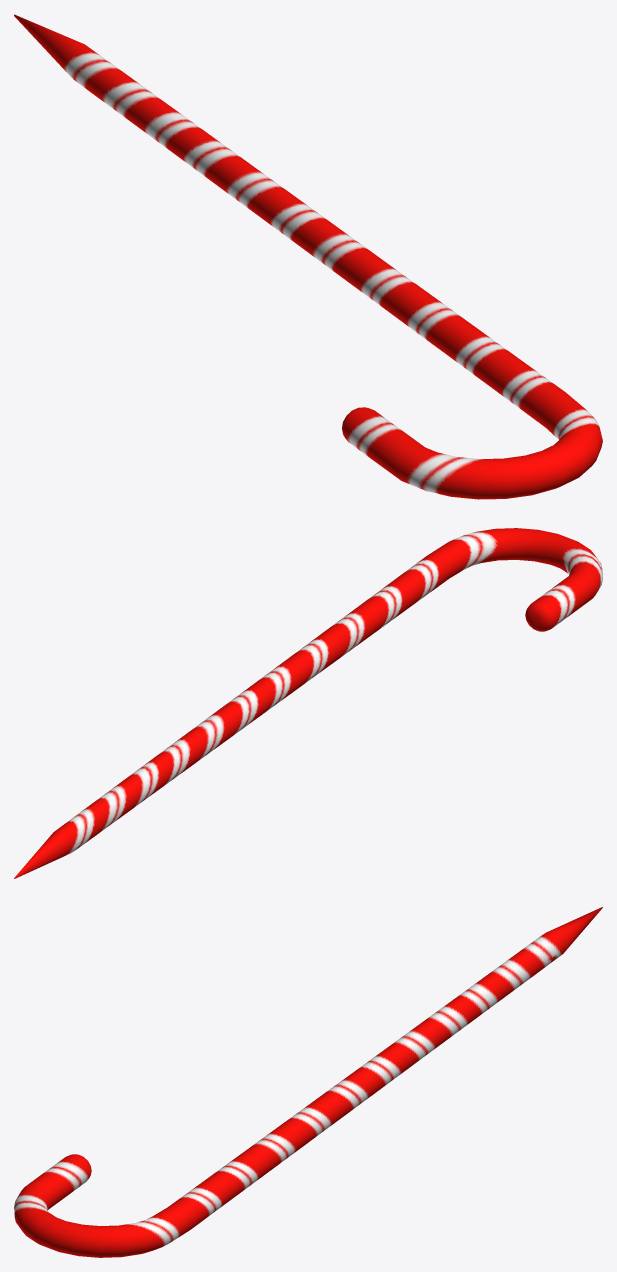
The model's file is cane.glb.
The picture shows the model from 3 angles, top to bottom: view 1: azimuth 30°, elevation 25°; view 2: azimuth 150°, elevation 25°; view 3: azimuth 330°, elevation 25°; orthographic projection. The views are drawn at different scales.
Parts seen in each view (by area): view 1: cane; view 2: cane; view 3: cane.
Boxes of the visible parts, x1,y1,x2,y2 form: cane: (14,14,602,499); cane: (14,528,602,878); cane: (14,907,602,1257).
Bounding box in the file's own units: 1.65 × 0.2888 × 8.82.
Materials: 1 (1 with a texture image).
